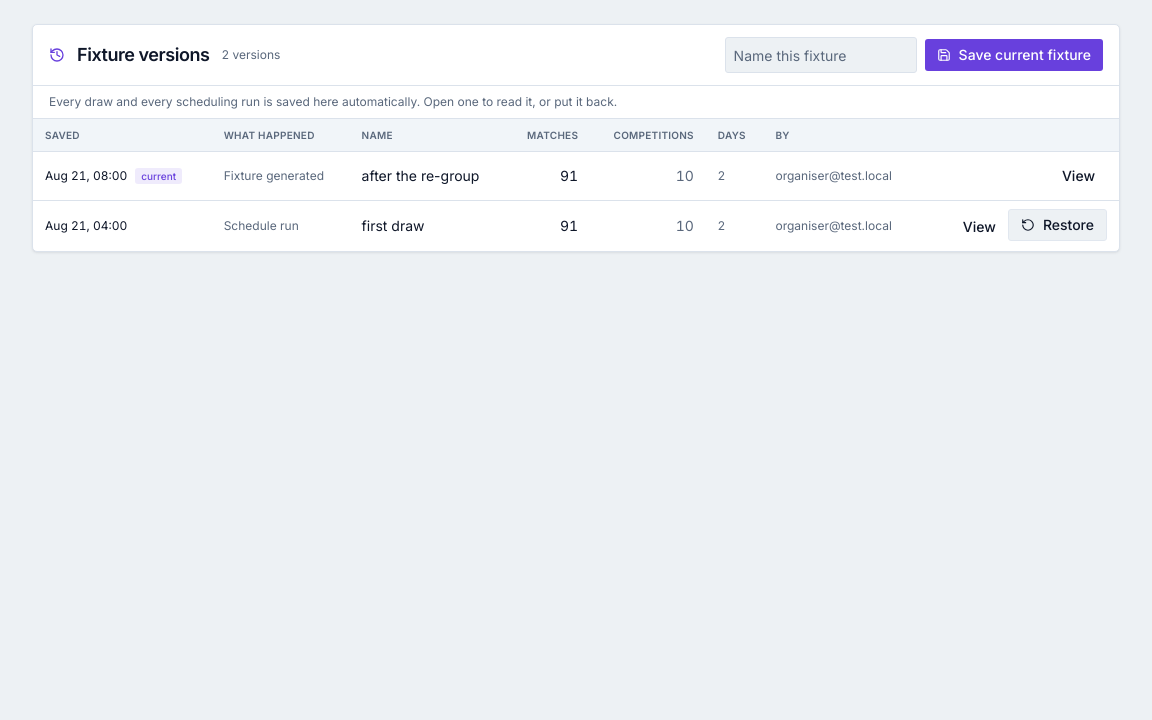
it: FixtureVersionsPage › opens one version in full without restoring it
The width and height of the screenshot is (1152, 720).
Expected: the table with test id "versions-table" is shown, [33,119,1119,251]
Click the button with test id "view-older" at (979, 227), box [951,211,1008,243]
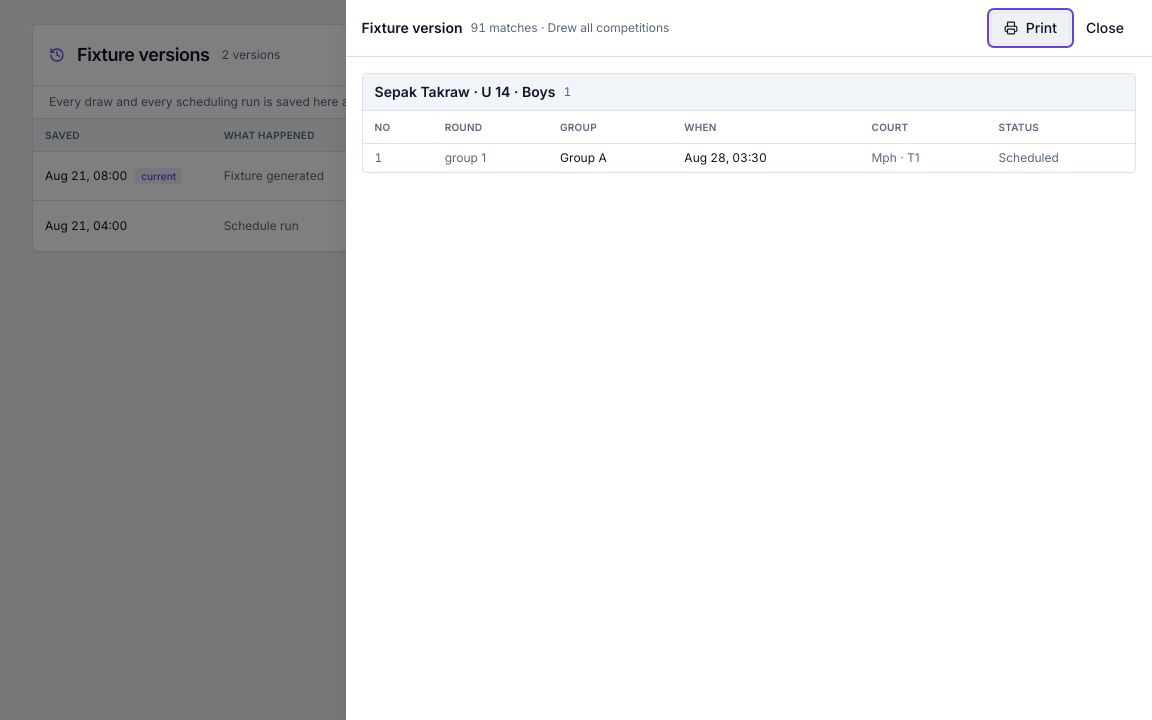
Result: the element with test id "version-leaf-sepak_takraw.u_14.boys" is shown at [362,73,1136,173]
Result: the dialog shows "Mph · T1" at [872,150,920,165]
Result: the dialog shows "Group A" at [560,150,607,165]
